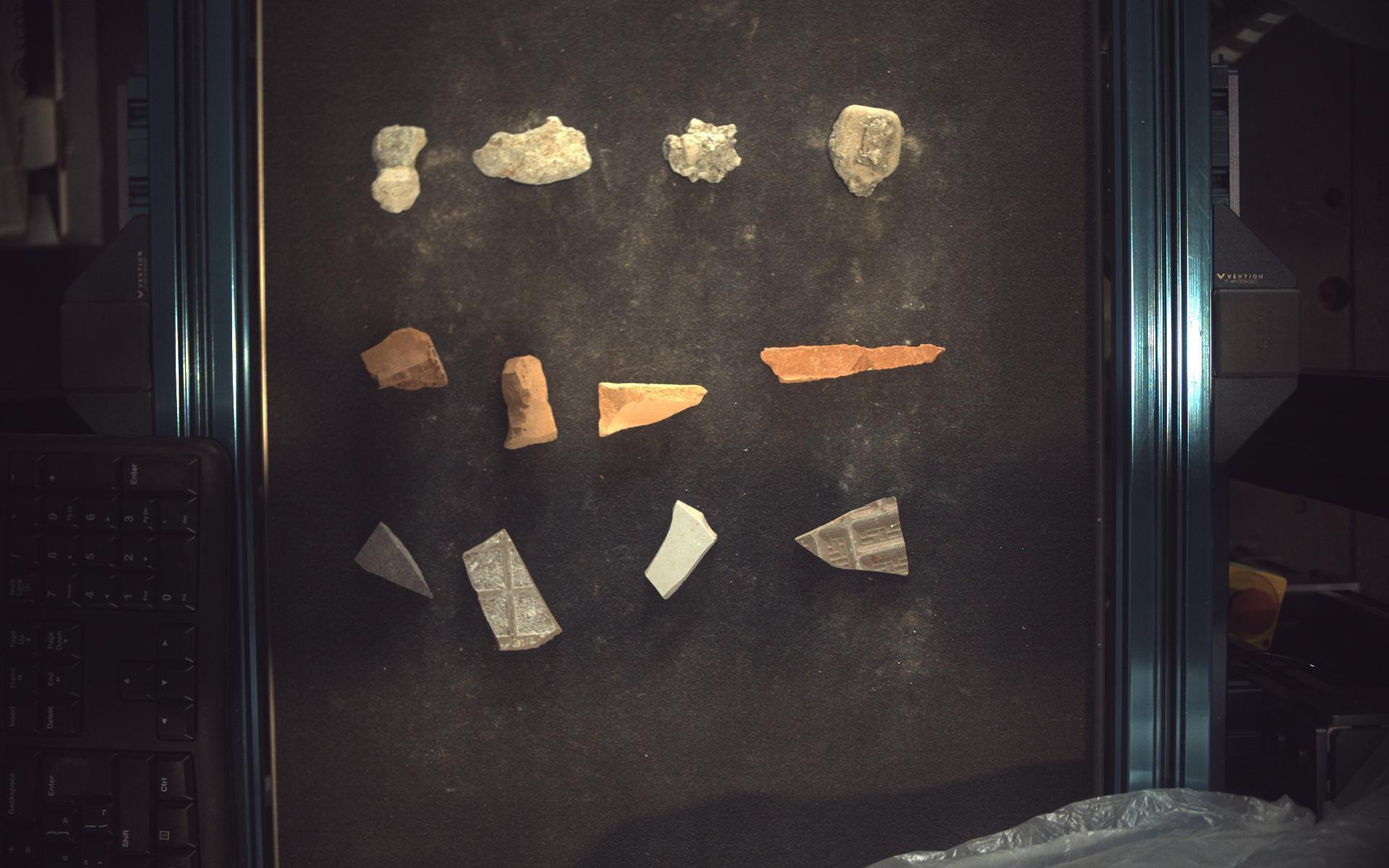brick: (762, 344, 947, 383), (599, 382, 708, 437), (361, 327, 449, 391), (501, 354, 558, 450)
concrete: (473, 115, 592, 184), (831, 103, 905, 196), (664, 117, 742, 182), (371, 124, 427, 213)
tile: (462, 529, 562, 652), (797, 498, 909, 576), (646, 501, 718, 600), (354, 523, 433, 599)
